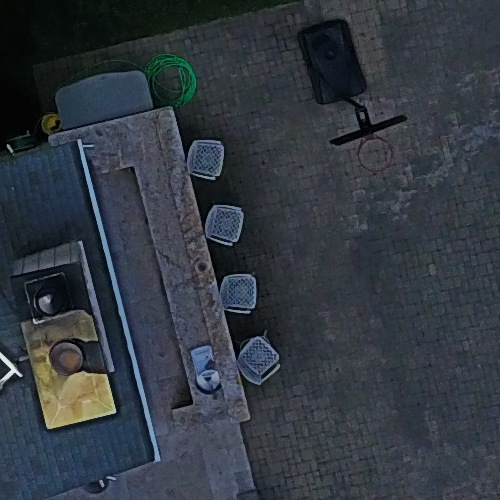basketball: (281, 15, 413, 179)
container: (36, 112, 66, 139)
no larvae: (283, 17, 415, 180), (39, 114, 73, 140)
